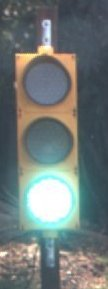Green: (9, 32, 94, 258)
